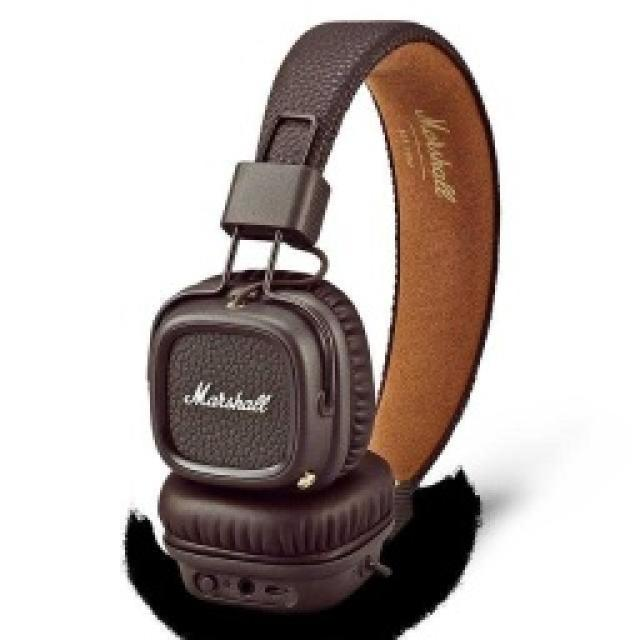headphones: (125, 18, 500, 628)
